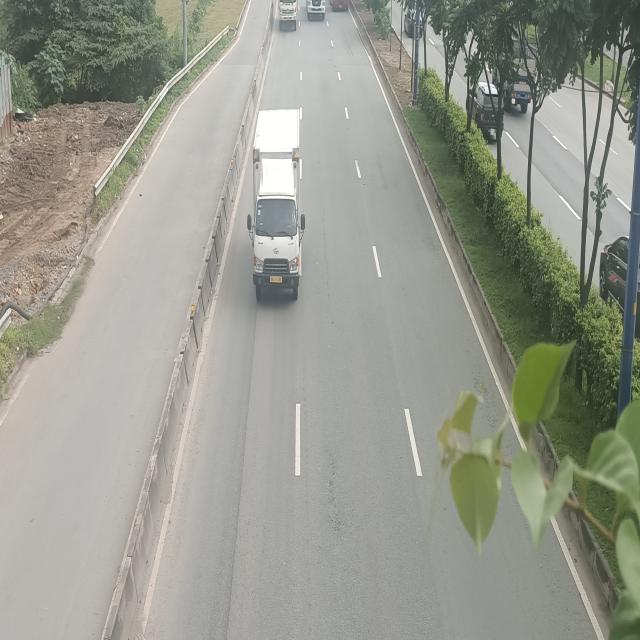truck: (248, 110, 306, 300)
